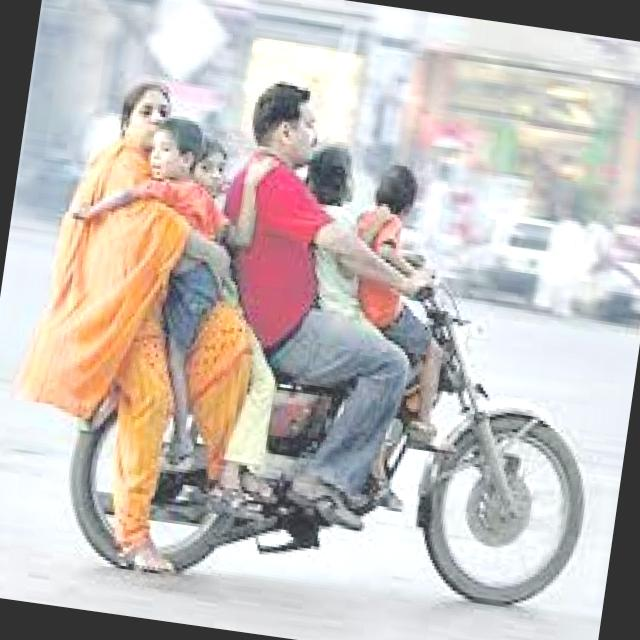motorcycle: (36, 237, 614, 628)
person: (36, 62, 213, 388), (194, 68, 341, 348), (85, 98, 224, 360), (258, 117, 387, 397), (332, 146, 454, 412), (157, 128, 263, 353)
rider_region: (14, 50, 640, 640)
